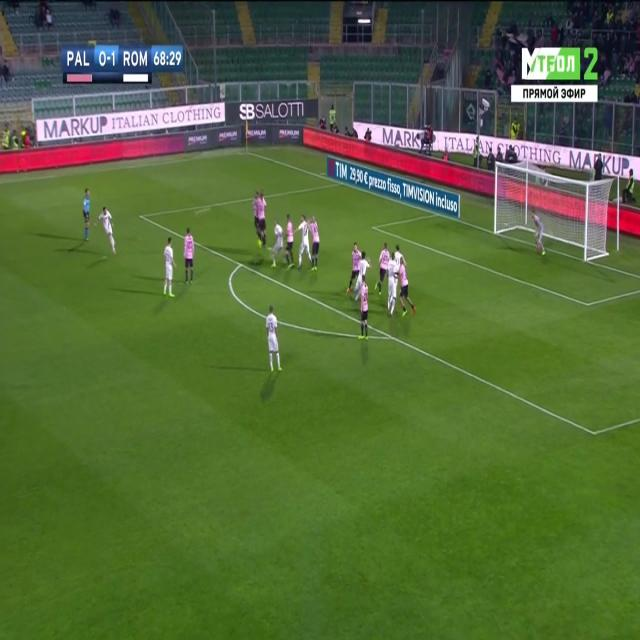Goalkeeper: (530, 208, 548, 259)
Player: (396, 256, 418, 321), (264, 304, 284, 374), (95, 206, 119, 259), (160, 236, 177, 300), (294, 212, 313, 268), (372, 241, 390, 296), (353, 251, 372, 303), (345, 240, 361, 297), (182, 226, 196, 286), (308, 214, 322, 272), (283, 213, 297, 270), (358, 273, 369, 343), (387, 251, 398, 319), (270, 218, 284, 270), (256, 190, 268, 249), (251, 190, 259, 236)
Referee: (81, 185, 93, 248)
